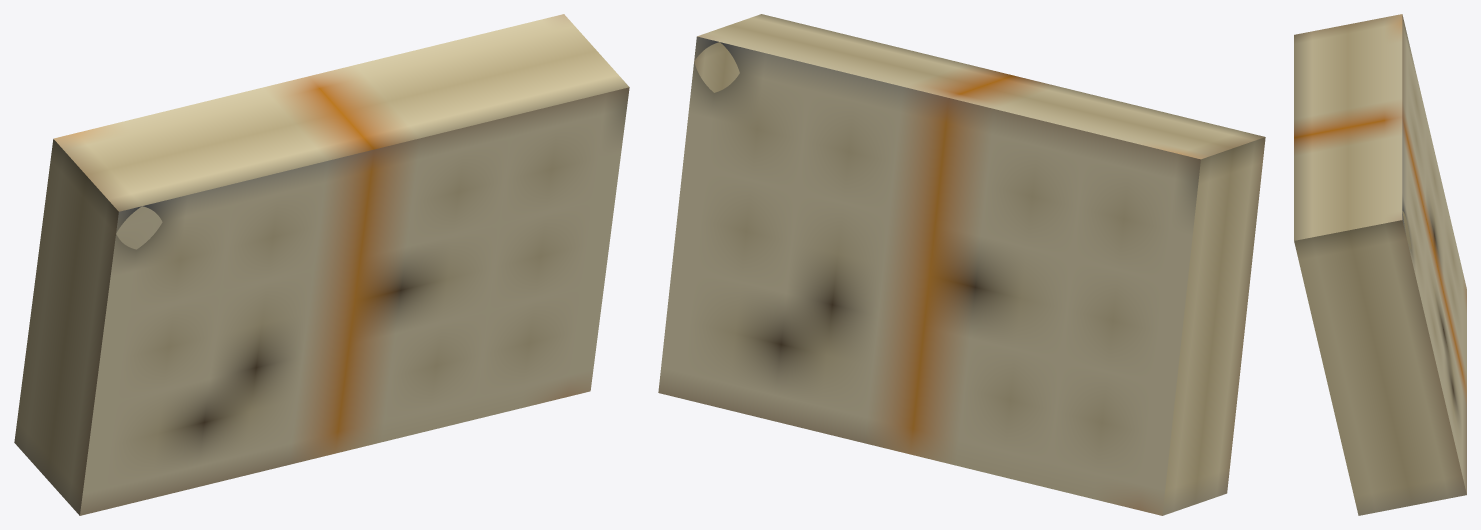
File: era1_card_deck_3_double_sided.obj
3 views of the same model, side by side, from view 1: azimuth 30°, elevation 25°; view 2: azimuth 150°, elevation 25°; view 3: azimuth 270°, elevation 25° (orthographic). The views are drawn at different scales.
Parts seen in each view (by area): view 1: era1_card_deck_3; view 2: era1_card_deck_3; view 3: era1_card_deck_3.
Part boxes in pixels (x1,y1,x2,y2): era1_card_deck_3: [14, 14, 629, 515]; era1_card_deck_3: [658, 14, 1265, 515]; era1_card_deck_3: [1294, 14, 1466, 515].
Bounding box in the file's own units: 0.6875 × 0.4604 × 0.2438.
